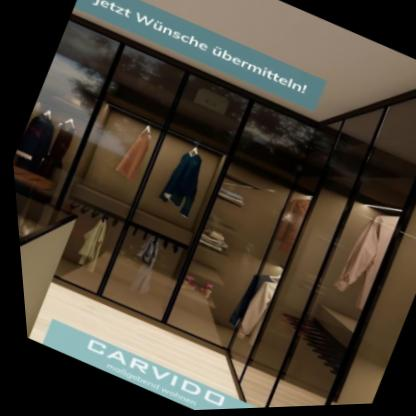Transparent Closet: (11, 15, 416, 410)
